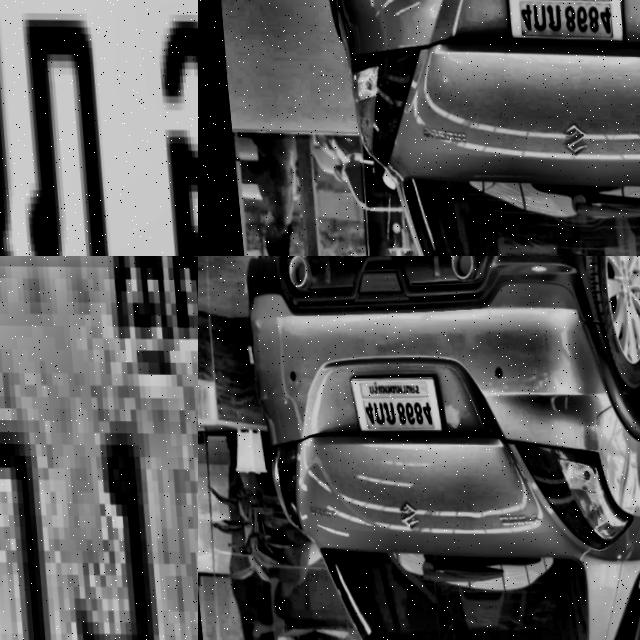license-plate: (0, 256, 198, 640), (0, 0, 198, 256), (343, 369, 440, 438), (495, 0, 622, 46)
